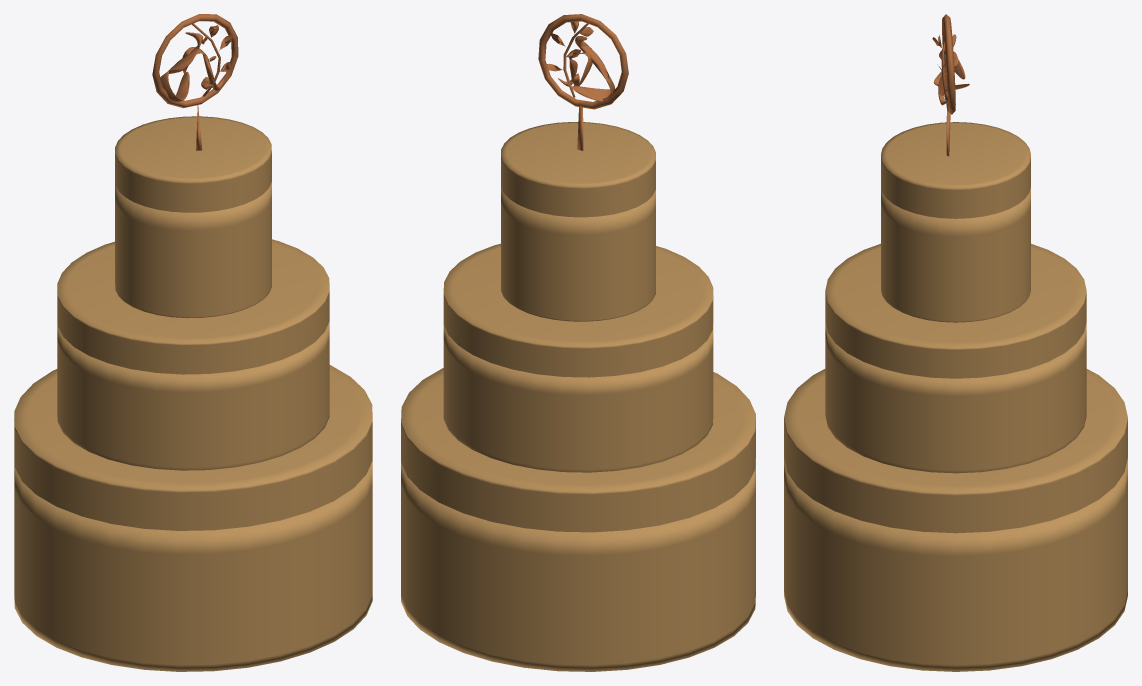
Rendered from 3-tier-caramel-none-ring.glb.
3 renders of one model, left to right at view 1: azimuth 30°, elevation 25°; view 2: azimuth 150°, elevation 25°; view 3: azimuth 270°, elevation 25°, orthographic.
Parts seen in each view (by area): view 1: Cylinder.022, Cylinder.014, Cylinder.021, Cylinder.020; view 2: Cylinder.022, Cylinder.014, Cylinder.021, Cylinder.020; view 3: Cylinder.022, Cylinder.014, Cylinder.021, Cylinder.020.
Part boxes in pixels (left/top/right/bottom): Cylinder.022: left=14, top=365, right=372, bottom=671; Cylinder.014: left=57, top=239, right=329, bottom=470; Cylinder.021: left=115, top=116, right=271, bottom=318; Cylinder.020: left=152, top=14, right=238, bottom=150; Cylinder.022: left=401, top=368, right=755, bottom=671; Cylinder.014: left=443, top=243, right=713, bottom=472; Cylinder.021: left=501, top=122, right=655, bottom=321; Cylinder.020: left=538, top=14, right=628, bottom=150; Cylinder.022: left=784, top=369, right=1127, bottom=671; Cylinder.014: left=825, top=243, right=1086, bottom=473; Cylinder.021: left=881, top=122, right=1030, bottom=322; Cylinder.020: left=932, top=14, right=969, bottom=156.
Size of the model in its own units: 4.22 by 7.52 by 4.06.
